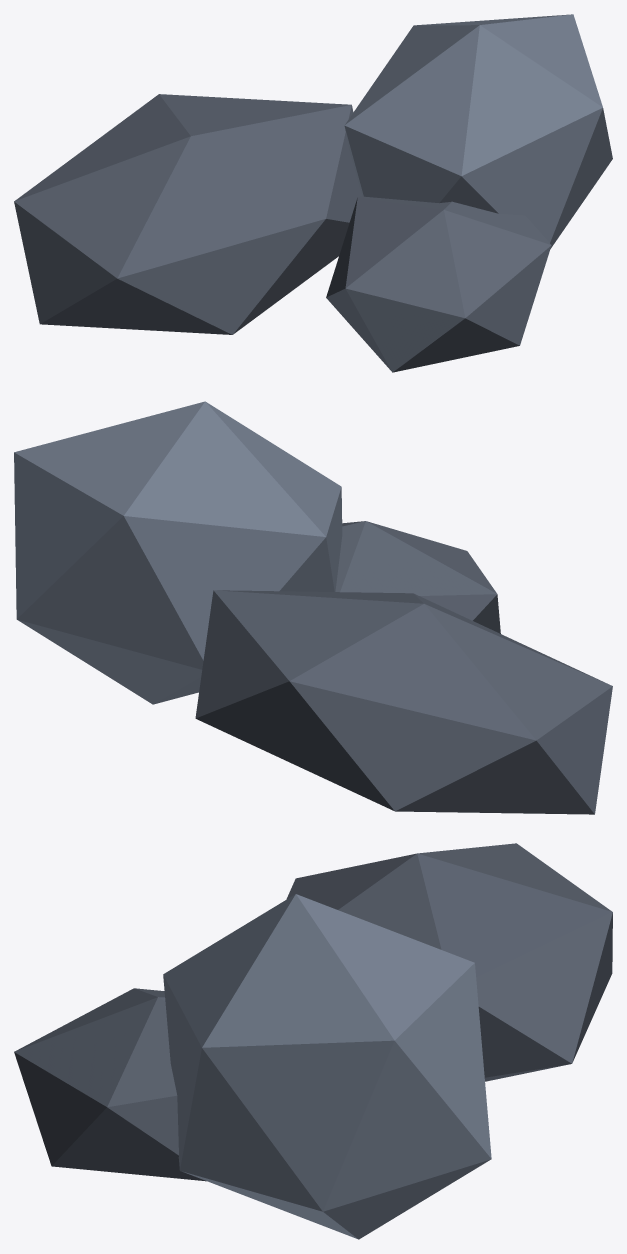
Rendered from EXTW_EastCluster_00.glb.
3 views of the same model, one above another, from view 1: azimuth 30°, elevation 25°; view 2: azimuth 150°, elevation 25°; view 3: azimuth 270°, elevation 25° (orthographic). The views are drawn at different scales.
Parts seen in each view (by area): view 1: EXTW_EastCluster_00; view 2: EXTW_EastCluster_00; view 3: EXTW_EastCluster_00.
Boxes of the visible parts, bbox=[...] form: EXTW_EastCluster_00: bbox=[14, 14, 612, 372]; EXTW_EastCluster_00: bbox=[14, 401, 612, 814]; EXTW_EastCluster_00: bbox=[14, 843, 612, 1239].
Size of the model in its own units: 2.12 by 0.9773 by 1.59.
